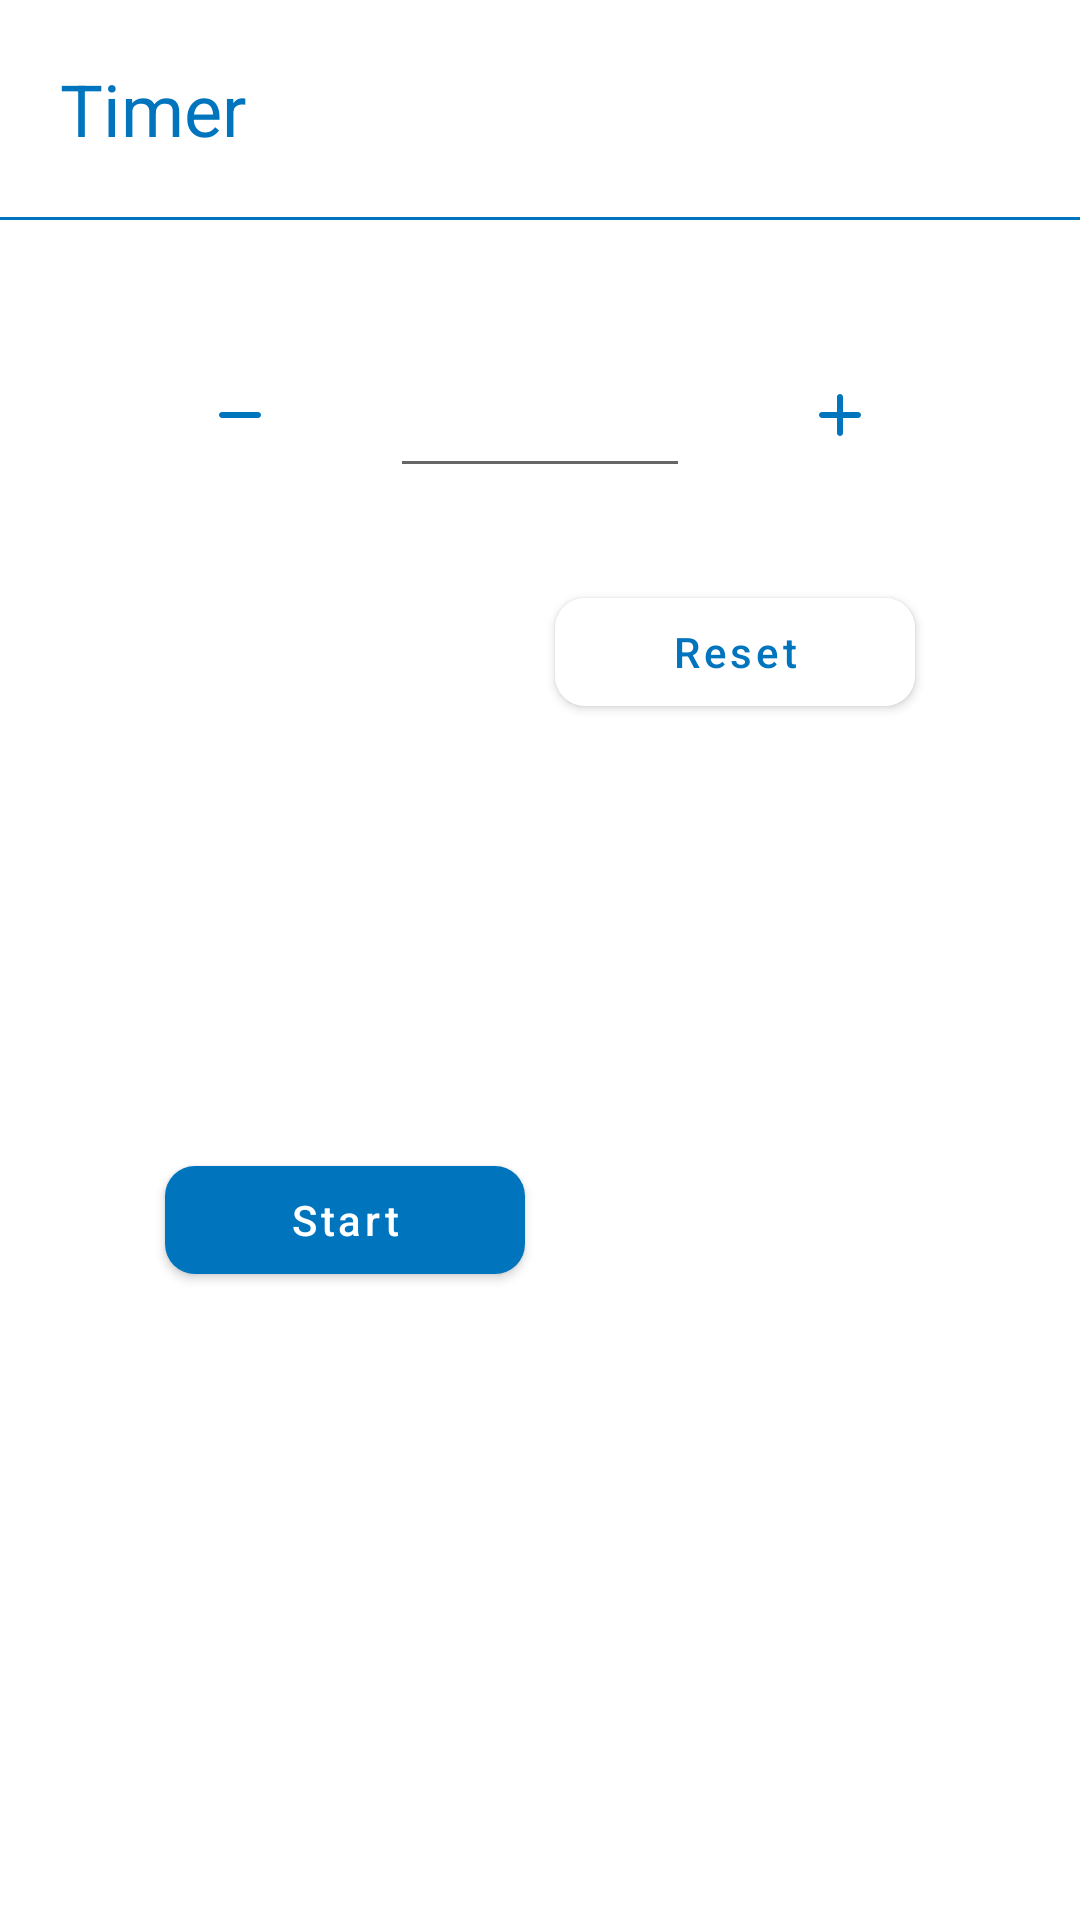

Locate icon controls on the screen. Image size 1080px x 1920px, boxes as Rect(x1, y1, x2, y2).
add: Rect(819, 394, 861, 436)
